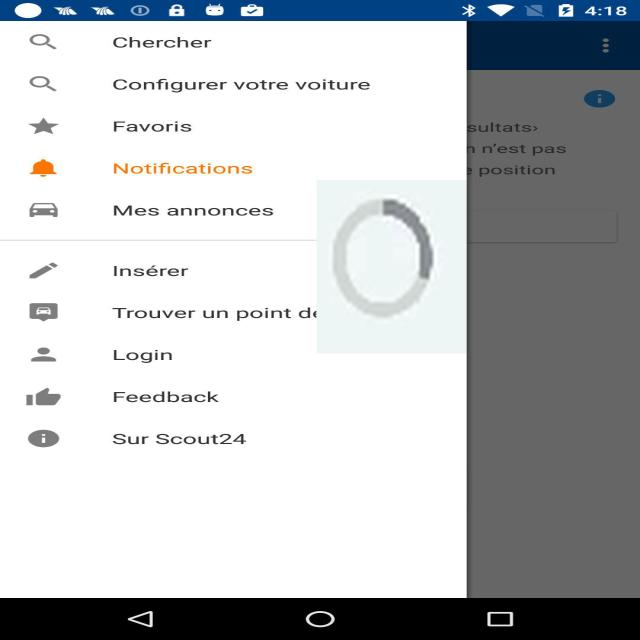misdirection: (316, 180, 466, 354)
